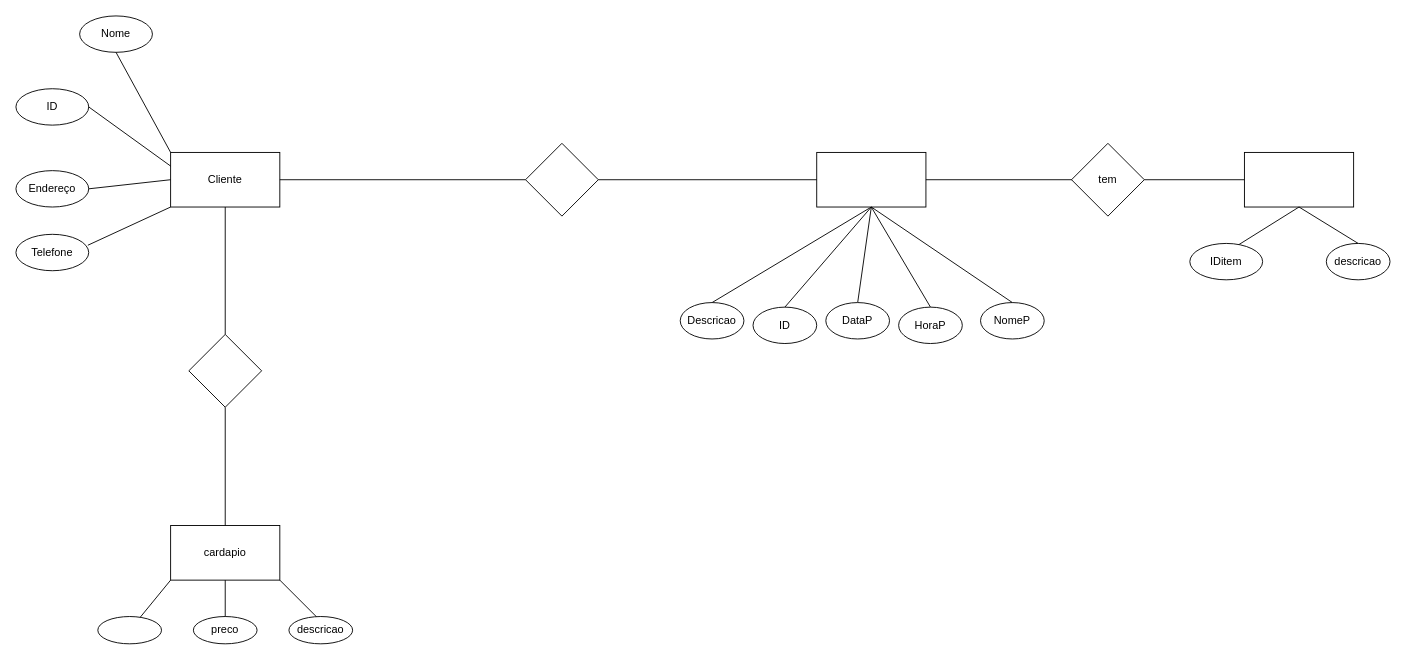
The diagram is 1406 pixels wide and 660 high, and some of its shapes have lost their labels. Here are the shapes that lost their labels. From the top down, the centre of each, then its label:
At (x=561, y=179): "Faz".
At (x=871, y=179): "Pedido".
At (x=1299, y=179): "item".
At (x=225, y=370): "consulta".
At (x=129, y=630): "IDproduto".
